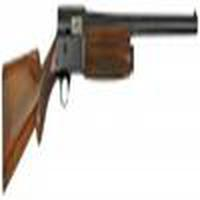gun: (1, 6, 200, 140)
